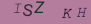H: (77, 7, 87, 18)
I: (14, 2, 21, 15)
K: (62, 8, 73, 19)
S: (22, 3, 33, 17)
Z: (33, 1, 45, 14)
